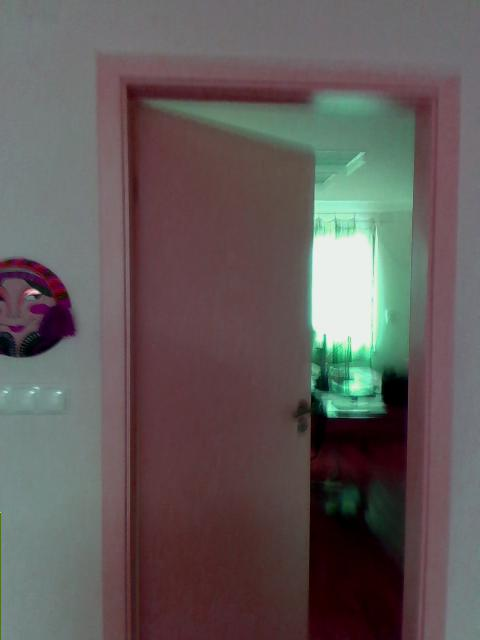semi_door: (94, 55, 462, 639)
